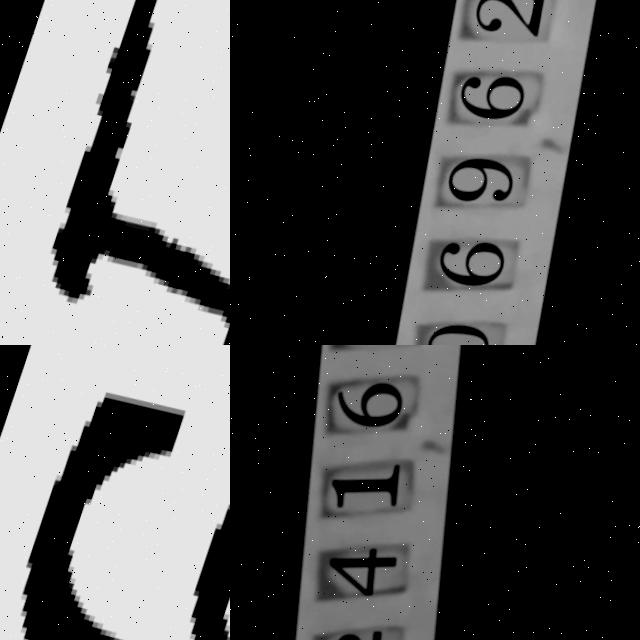0: (407, 306, 511, 345), (318, 345, 434, 378)
1: (309, 442, 423, 545)
2: (450, 0, 562, 67), (304, 610, 412, 640)
4: (305, 524, 423, 630)
6: (0, 345, 230, 640), (311, 359, 427, 465), (416, 220, 530, 319), (436, 56, 548, 153)
9: (426, 138, 537, 236)
F: (55, 0, 230, 323)
